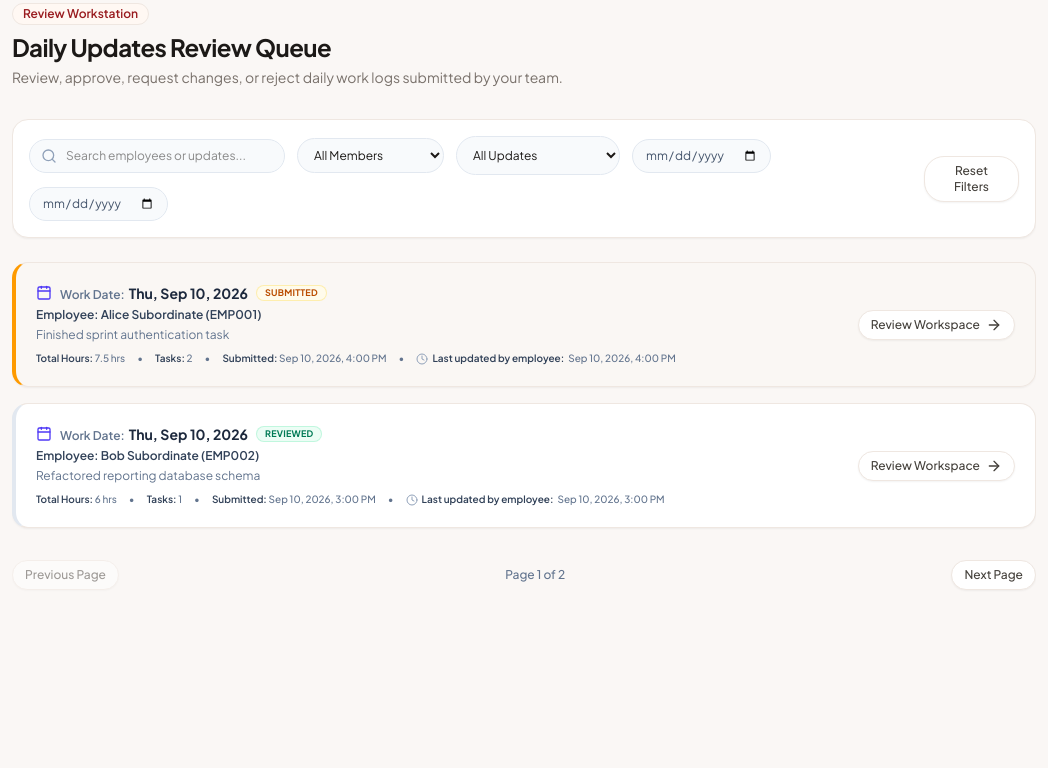
Test case: Director Daily Updates Review Queue Search › resets pagination to page 1 upon Reset Filters click
Click the button "Next Page".
click(994, 575)  # box [951, 560, 1036, 590]
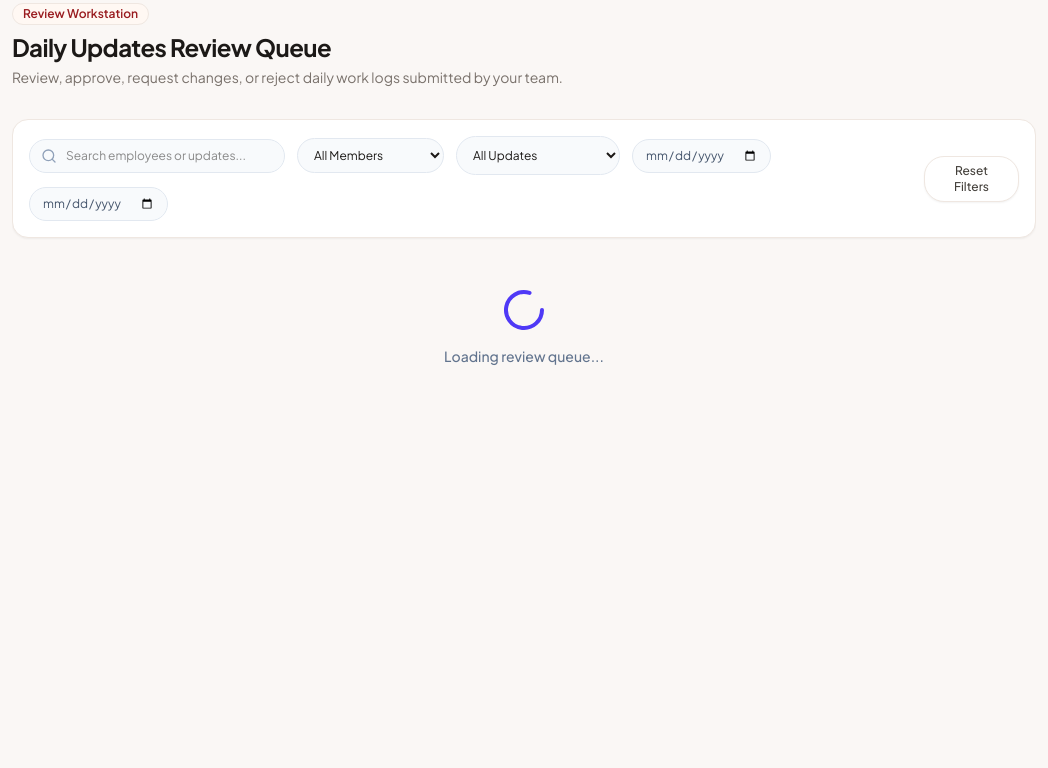
Click the button "Reset Filters".
click(972, 178)  # box [924, 156, 1019, 202]
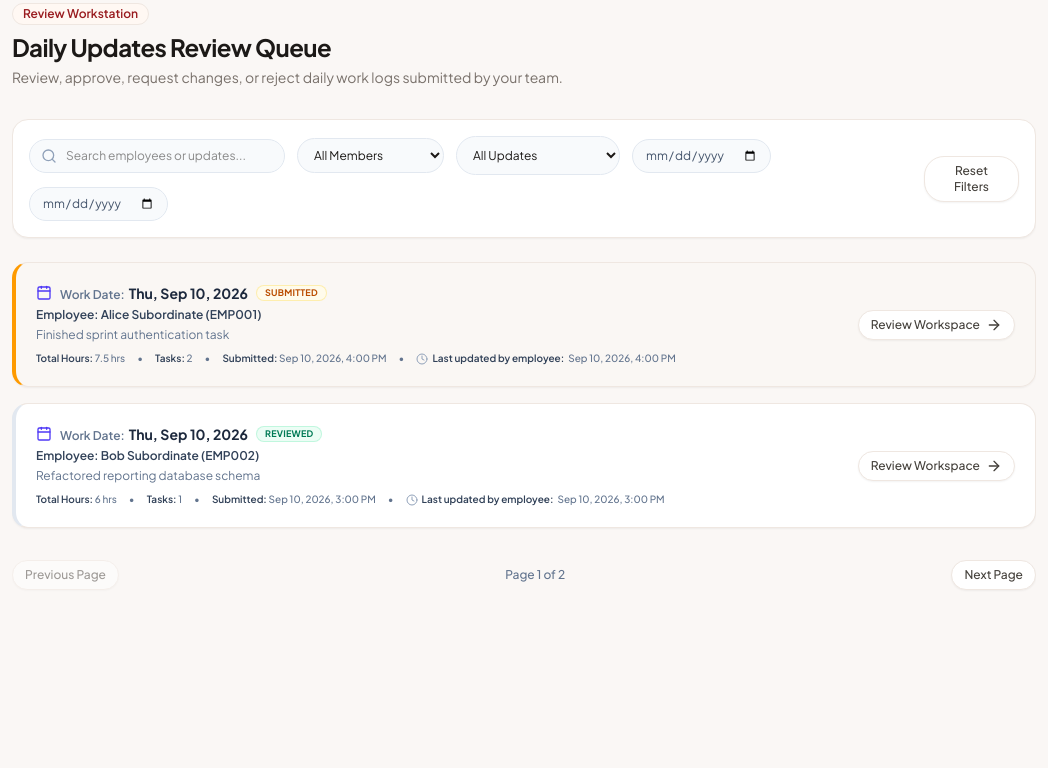
Check: the text "Page 1 of 2" is shown, box [505, 567, 565, 583]
